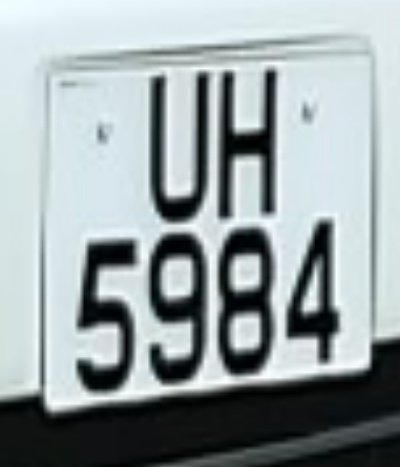4: (280, 204, 357, 387)
5: (50, 216, 143, 416)
8: (210, 218, 296, 398)
9: (134, 224, 218, 403)
H: (213, 42, 291, 228)
U: (135, 51, 218, 230)
